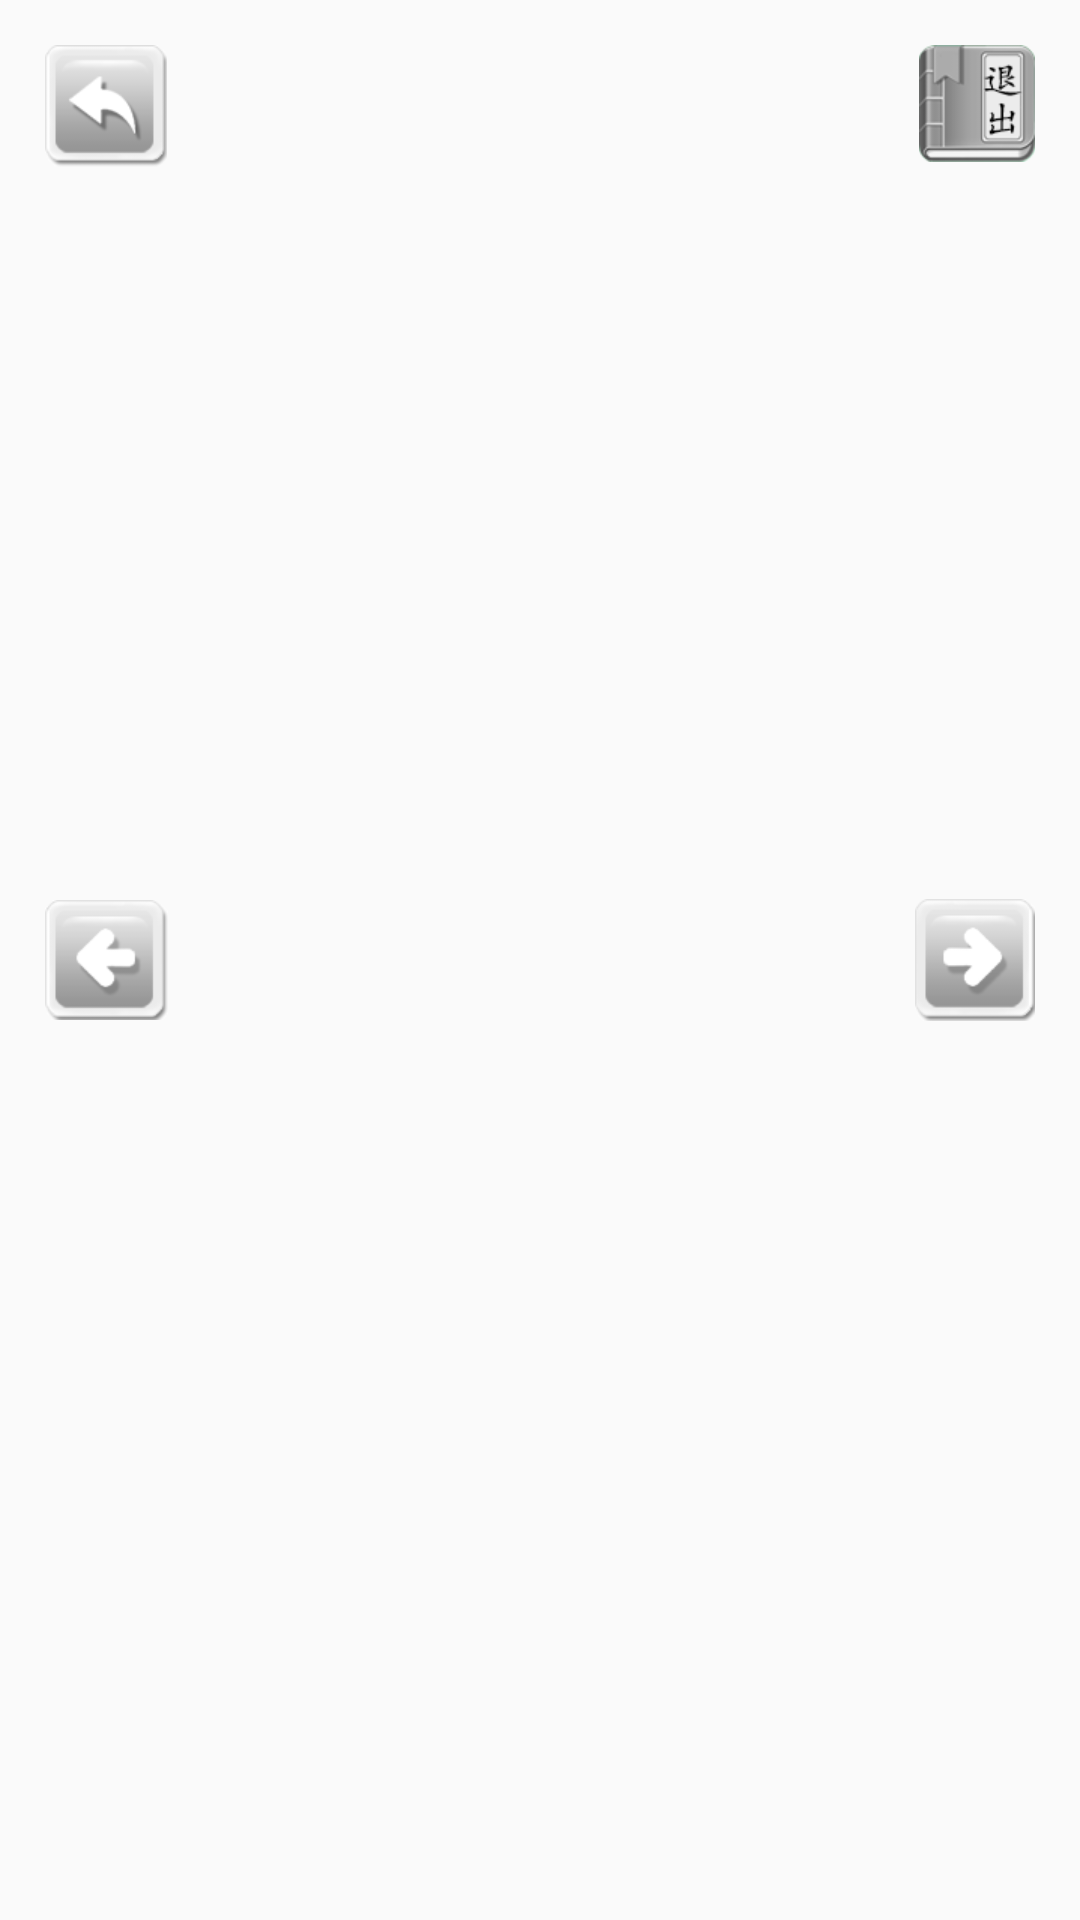

Icons on this 1080px x 1920px Android screen, each with the point to tap as [x,y]:
home back: [106,964]
home front: [977,965]
